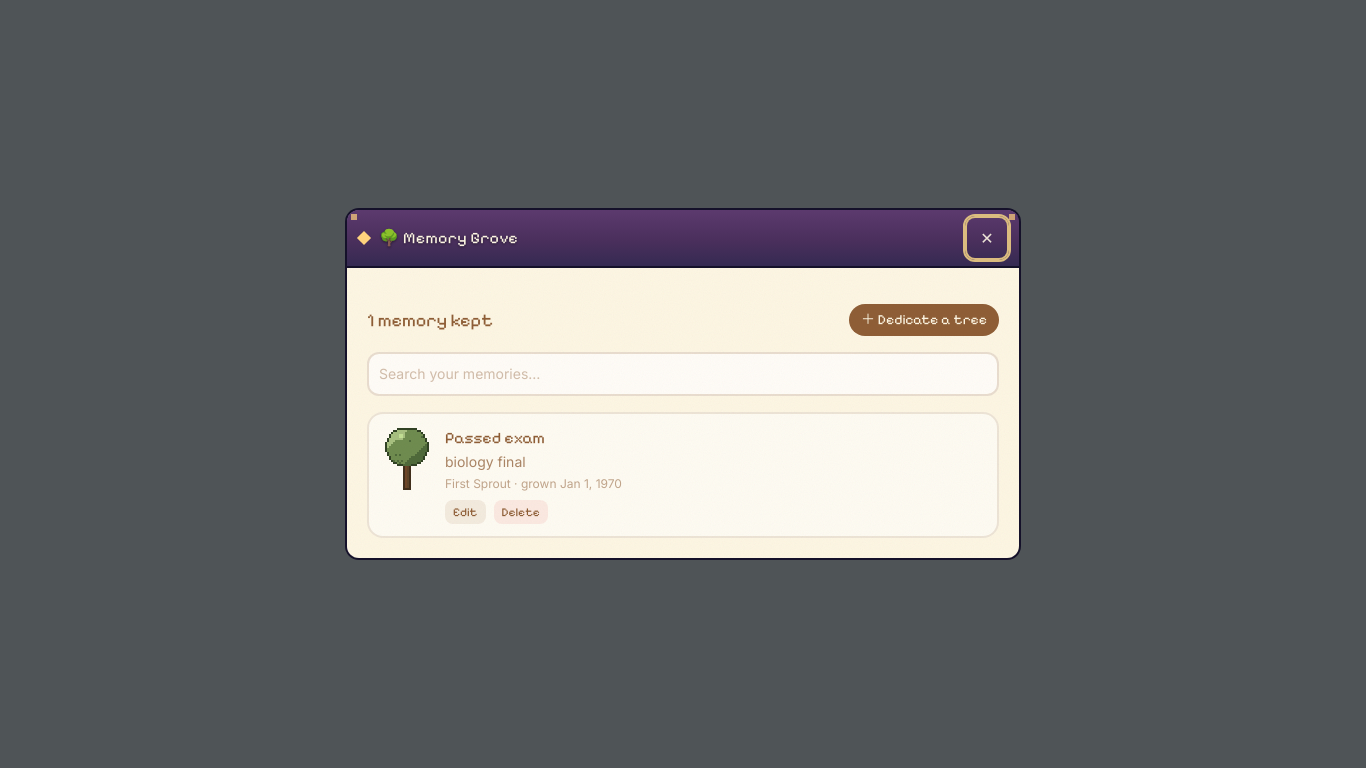
Test: MemoryGroveModal › filters the list by search query (case-insensitive)
The width and height of the screenshot is (1366, 768).
Type "EXAM" into the field named "search memories" at [683, 374], box [367, 352, 999, 396]
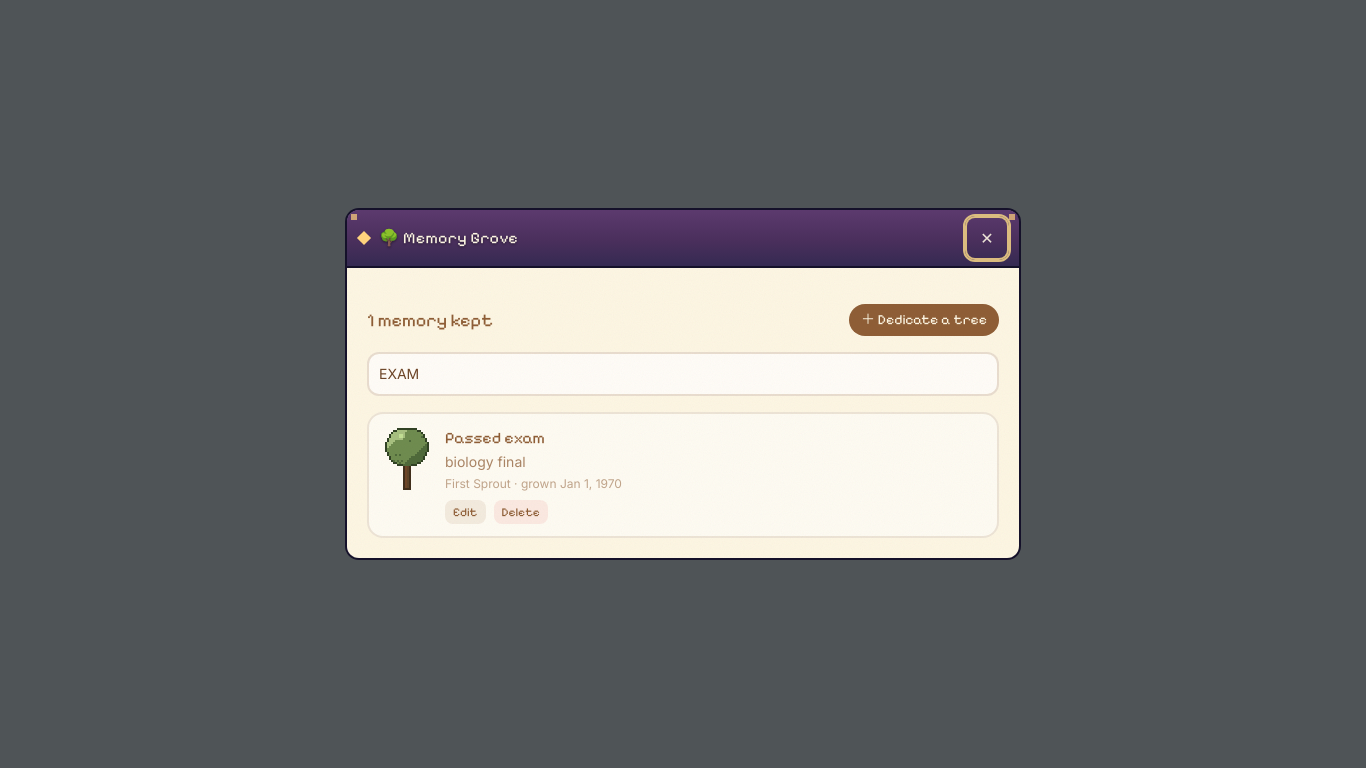
Check: the text "Passed exam" is shown, box [445, 428, 545, 447]
Replace the text in the field named "search memories" with "zzz" at [683, 374], box [367, 352, 999, 396]
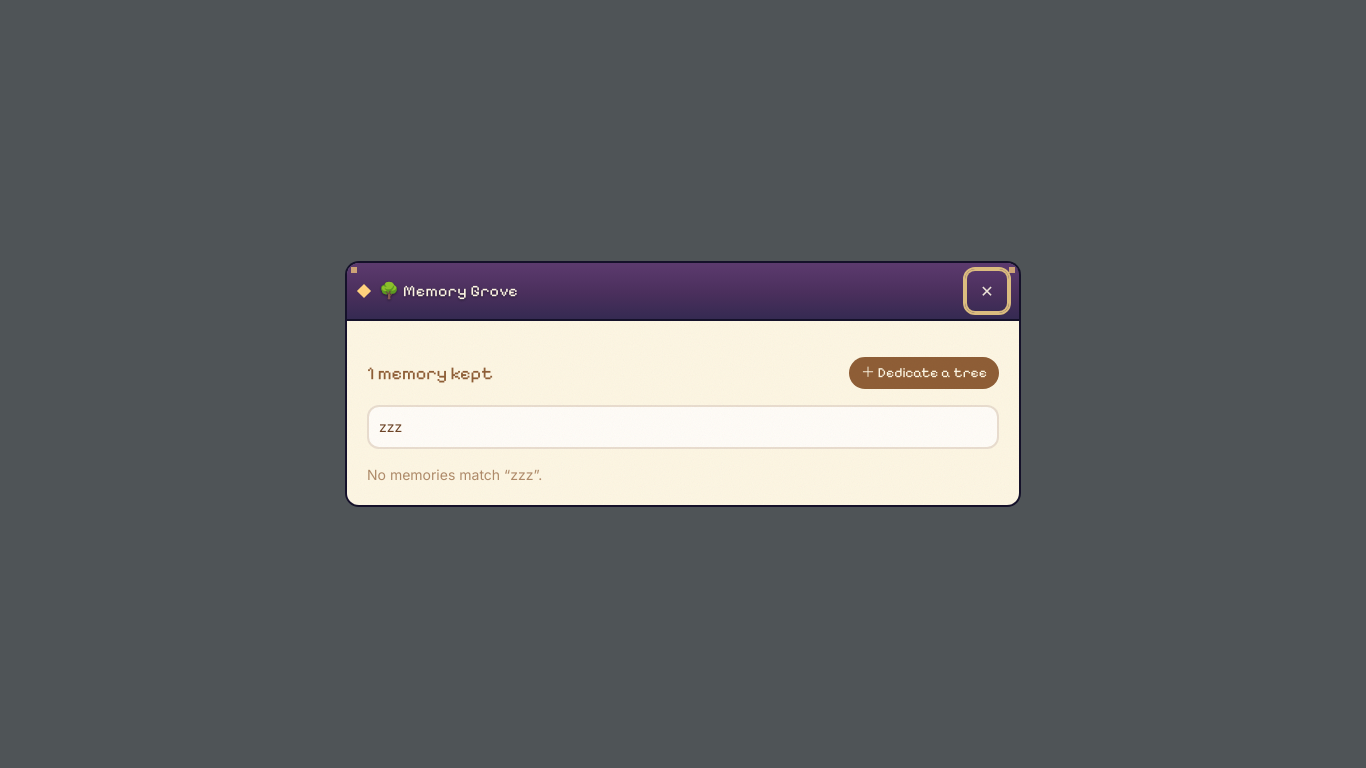
Check: the text "Passed exam" is gone
Check: the text "No memories match “zzz”." is shown, box [367, 466, 542, 483]
